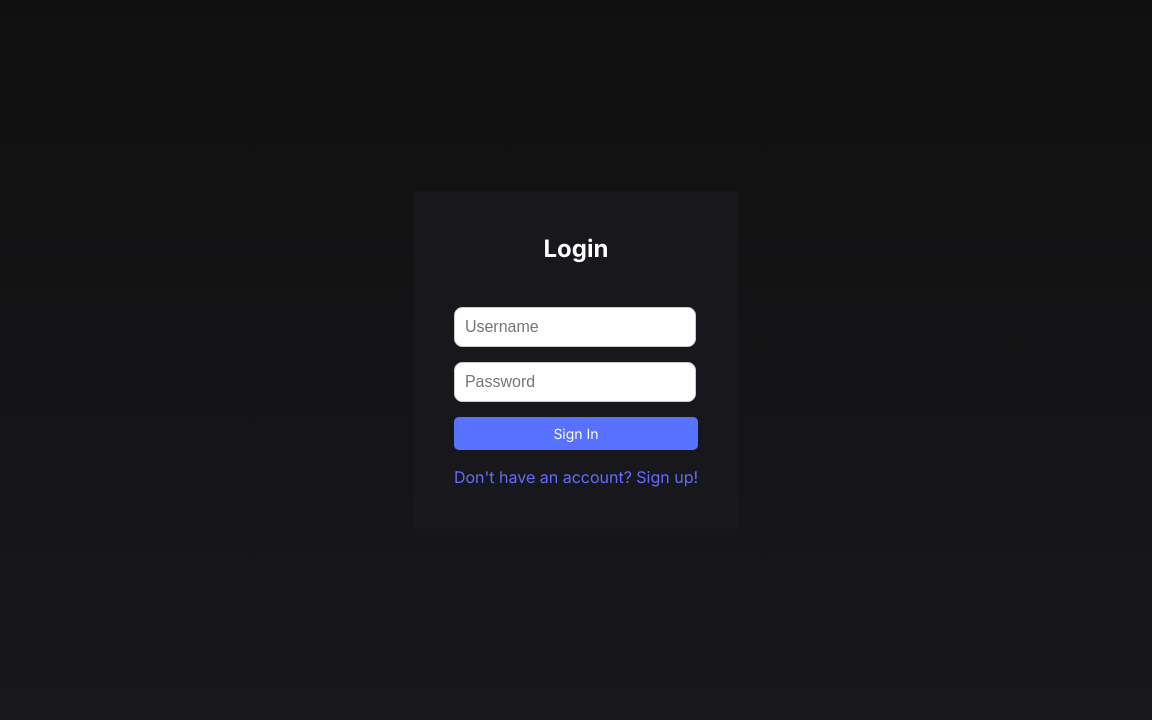
it: AuthForm component › shows validation errors on empty submit (login)
This screenshot has width=1152, height=720.
What coordinates should you click on to do the following:
click the button "Sign In"
I would click on:
 (576, 433)
Its box is [454, 417, 698, 450].
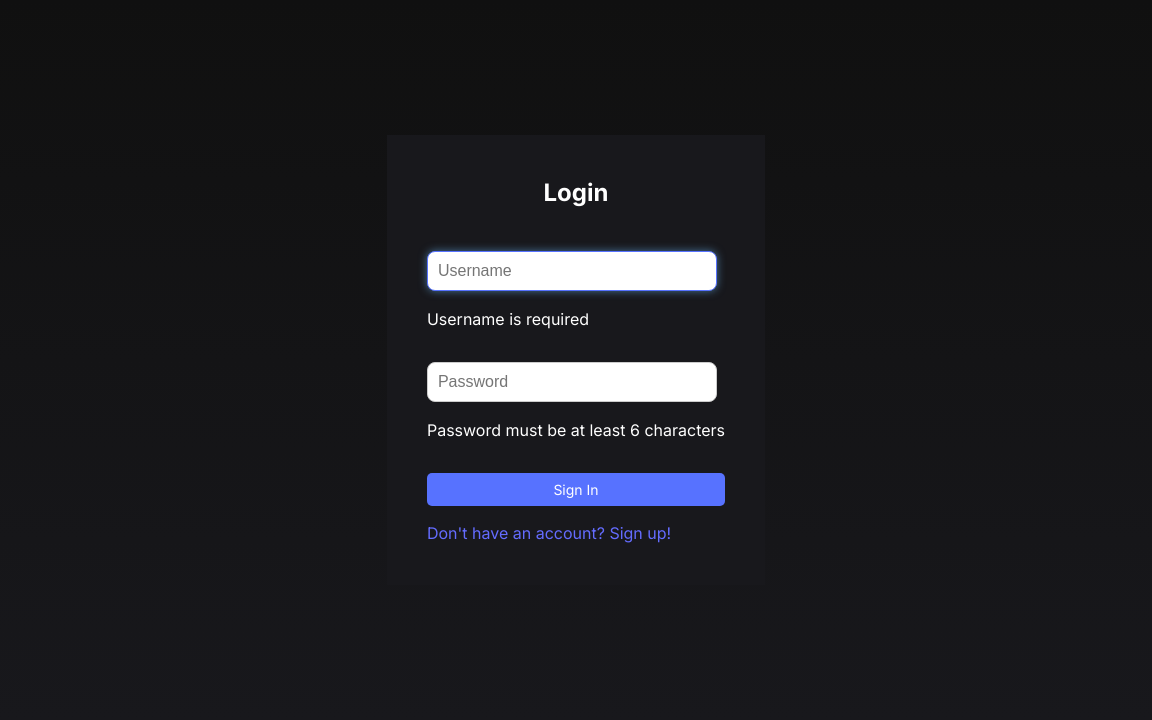
expect the text "Username is required" is shown: met, box [427, 309, 589, 329]
expect the text "Password must be at least 6 characters" is shown: met, box [427, 418, 725, 442]
